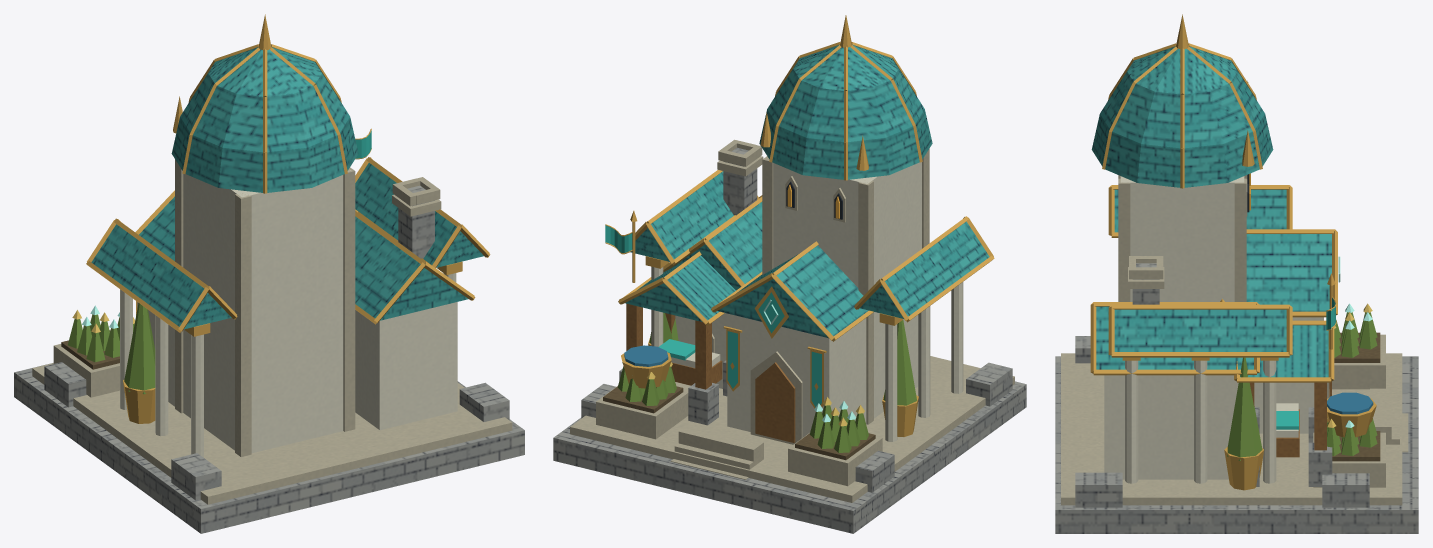
Rendered from Hospital_3.fbx.
The picture shows the model from 3 angles, left to right: view 1: azimuth 30°, elevation 25°; view 2: azimuth 150°, elevation 25°; view 3: azimuth 270°, elevation 25°; orthographic projection. The views are drawn at different scales.
Visible parts, largest first — view 1: BuildingBody; view 2: BuildingBody, FlagCloth_00; view 3: BuildingBody.
Boxes of the visible parts, x1,y1,x2,y2 form: BuildingBody: (14, 14, 524, 533); BuildingBody: (553, 15, 1026, 533); FlagCloth_00: (605, 224, 632, 254); BuildingBody: (1055, 14, 1418, 533).
Size of the model in its own units: 1 by 1.3 by 1.
Materials: 1 (1 with a texture image).
